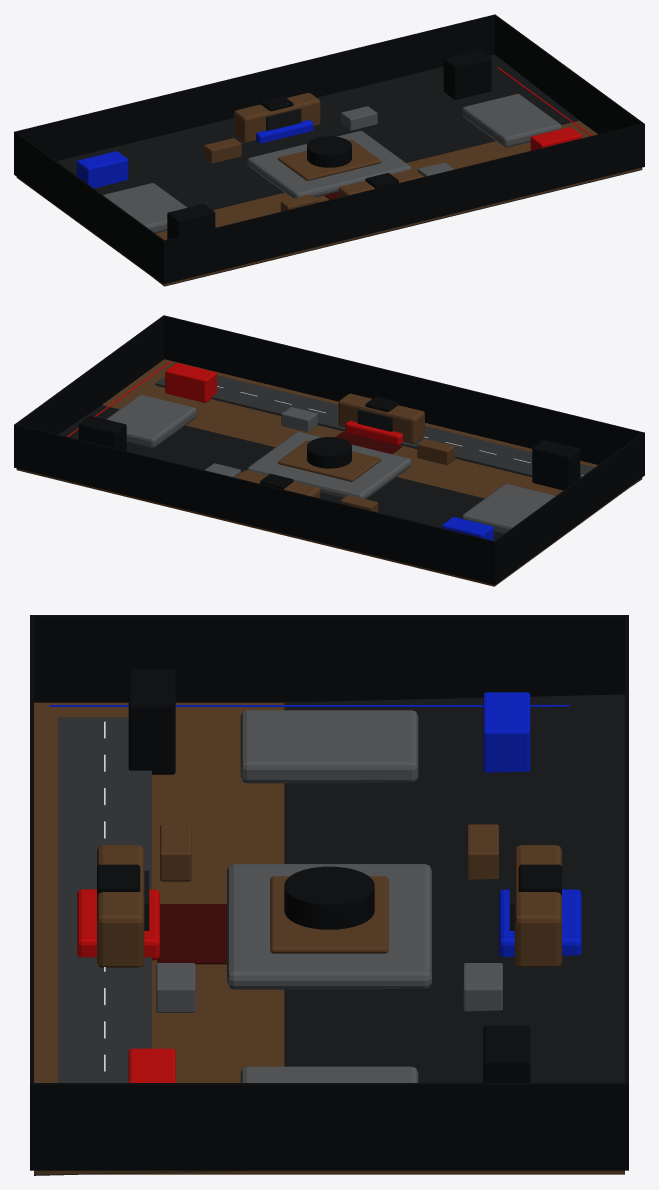
Rendered from field_visual.obj.
3 renders of one model, top to bottom at view 1: azimuth 30°, elevation 25°; view 2: azimuth 150°, elevation 25°; view 3: azimuth 270°, elevation 25°, orthographic. The views are drawn at different scales.
Parts seen in each view (by area): view 1: pvc_surface, fence_short, fence_short.001, fence_long, fence_long.001, field_base, central_highland, east_highland, west_highland, east_radar_base, north_tunnel, central_platform (+10 smaller); view 2: fence_short.001, fence_short, field_base, pvc_surface, fence_long, fence_long.001, road_south, central_highland, east_highland, west_highland, west_radar_base, south_tunnel (+12 smaller); view 3: pvc_surface, fence_long.001, fence_long, field_base, road_south, central_highland, west_highland, energy_mechanism, west_radar_base, central_platform, south_tunnel, north_tunnel (+16 smaller).
Part boxes in pixels (left/top/right/bottom): pvc_surface: left=57, top=54, right=642, bottom=286; fence_short: left=165, top=123, right=643, bottom=283; fence_short.001: left=15, top=15, right=494, bottom=160; fence_long: left=14, top=131, right=165, bottom=283; fence_long.001: left=494, top=14, right=644, bottom=166; field_base: left=16, top=120, right=642, bottom=285; central_highland: left=247, top=131, right=411, bottom=198; east_highland: left=462, top=94, right=561, bottom=147; west_highland: left=103, top=183, right=187, bottom=233; east_radar_base: left=443, top=50, right=491, bottom=99; north_tunnel: left=234, top=93, right=320, bottom=142; central_platform: left=278, top=139, right=380, bottom=180; fence_short.001: left=15, top=424, right=494, bottom=584; fence_short: left=164, top=315, right=642, bottom=464; field_base: left=16, top=359, right=642, bottom=586; pvc_surface: left=59, top=405, right=641, bottom=540; fence_long: left=493, top=432, right=644, bottom=584; fence_long.001: left=14, top=315, right=164, bottom=467; road_south: left=155, top=375, right=594, bottom=477; central_highland: left=247, top=431, right=411, bottom=499; east_highland: left=106, top=394, right=196, bottom=447; west_highland: left=462, top=484, right=555, bottom=533; west_radar_base: left=532, top=440, right=580, bottom=490; south_tunnel: left=338, top=393, right=424, bottom=443; pvc_surface: left=34, top=694, right=624, bottom=1175; fence_long.001: left=30, top=1083, right=628, bottom=1170; fence_long: left=30, top=615, right=628, bottom=702; field_base: left=34, top=702, right=624, bottom=1174; road_south: left=57, top=717, right=151, bottom=1082; central_highland: left=227, top=864, right=431, bottom=989; west_highland: left=240, top=710, right=418, bottom=783; energy_mechanism: left=284, top=866, right=374, bottom=929; west_radar_base: left=128, top=669, right=175, bottom=774; central_platform: left=270, top=876, right=388, bottom=953; south_tunnel: left=97, top=845, right=144, bottom=967; north_tunnel: left=514, top=845, right=561, bottom=967.
Size of the model in its own units: 28.2 by 2.6 by 15.2.
